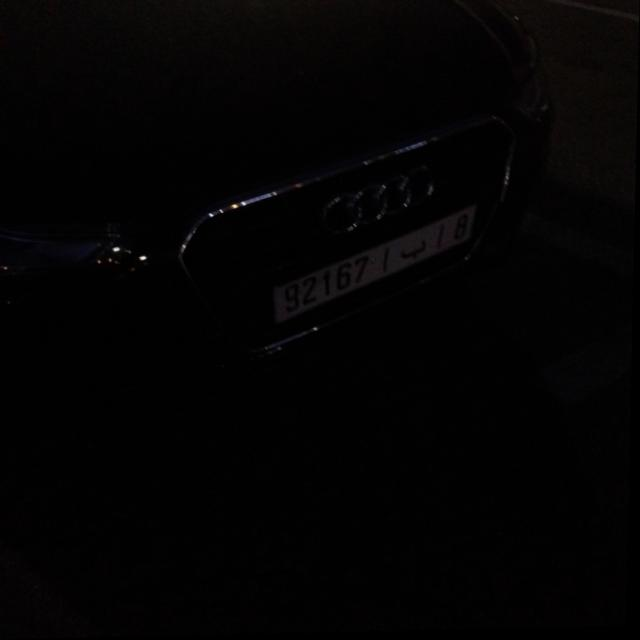License-Plate: (275, 207, 478, 324)
